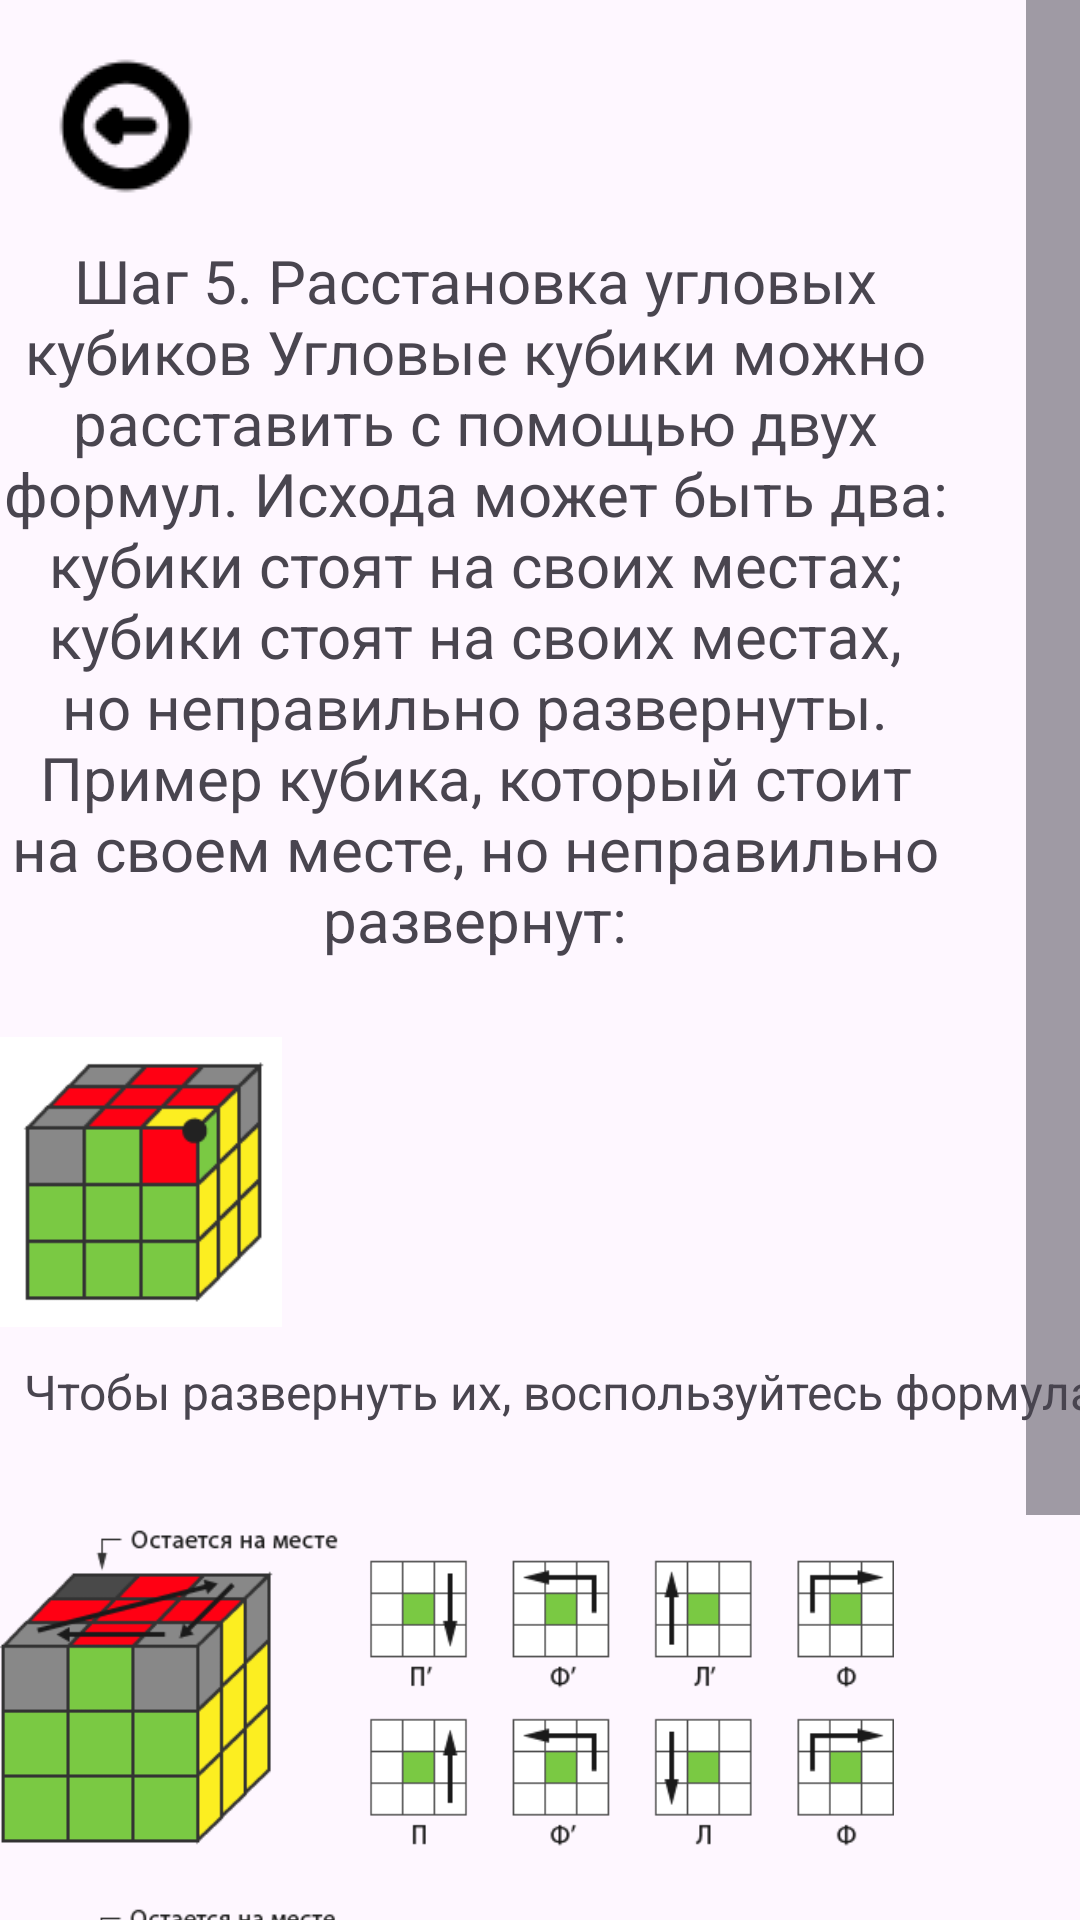

Icon click points for this 1080 × 1920 phone screenshot, format point (x, y):
back: point (126, 126)
